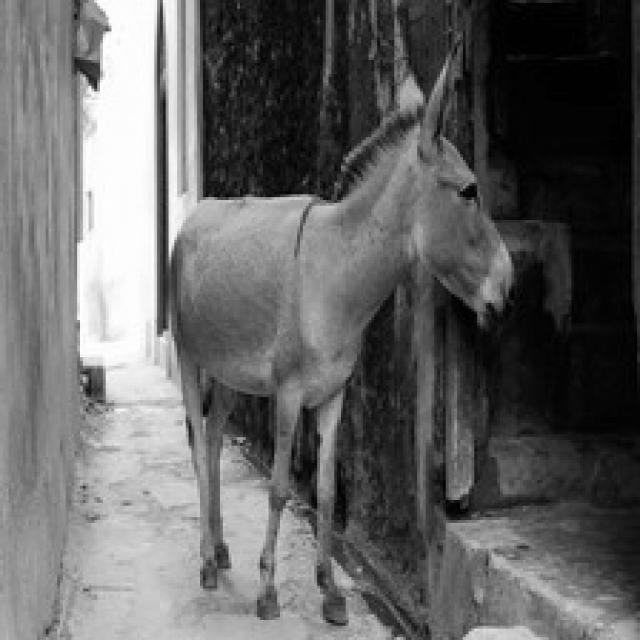Donkey: (166, 31, 514, 623)
